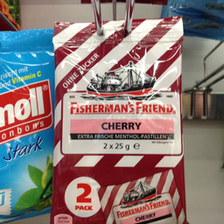candy: (56, 24, 186, 224), (1, 30, 55, 219)
